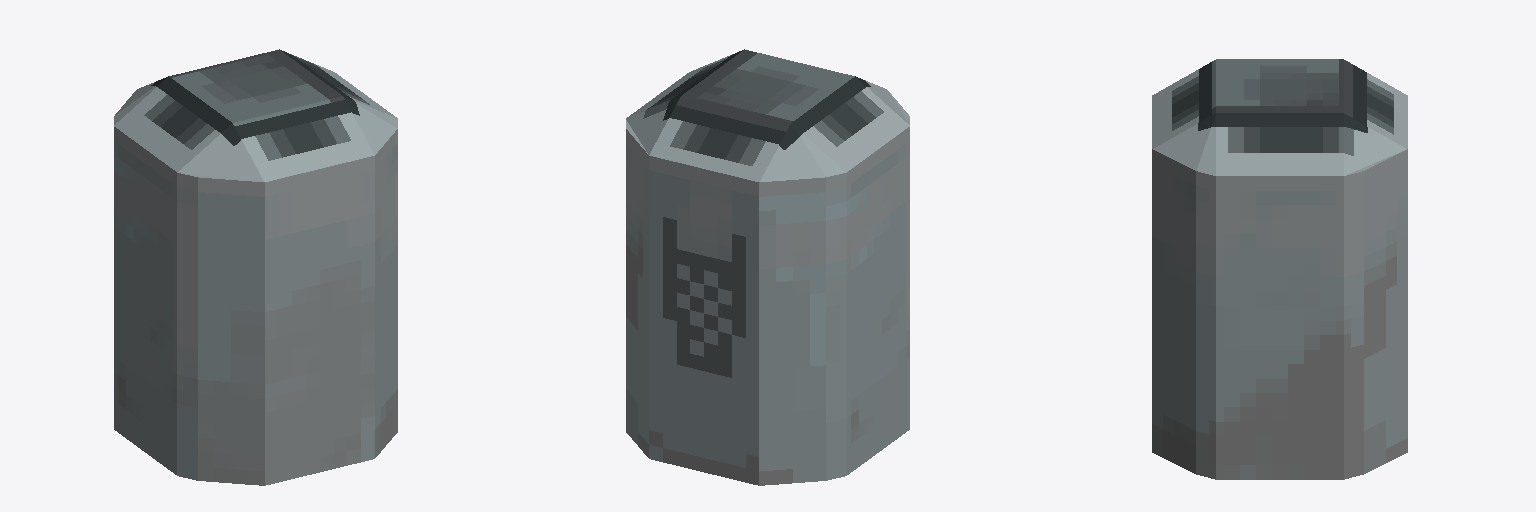
3 views of the same model, side by side, from view 1: azimuth 30°, elevation 25°; view 2: azimuth 150°, elevation 25°; view 3: azimuth 270°, elevation 25° (orthographic).
Visible parts, largest first — view 1: cuboid; view 2: cuboid; view 3: cuboid.
Part boxes in pixels (bbox=[...]): cuboid: bbox=[114, 49, 397, 485]; cuboid: bbox=[626, 49, 909, 485]; cuboid: bbox=[1152, 59, 1407, 479].
Size of the model in its own units: 1 by 1.47 by 1.
1 materials, 1 textured.